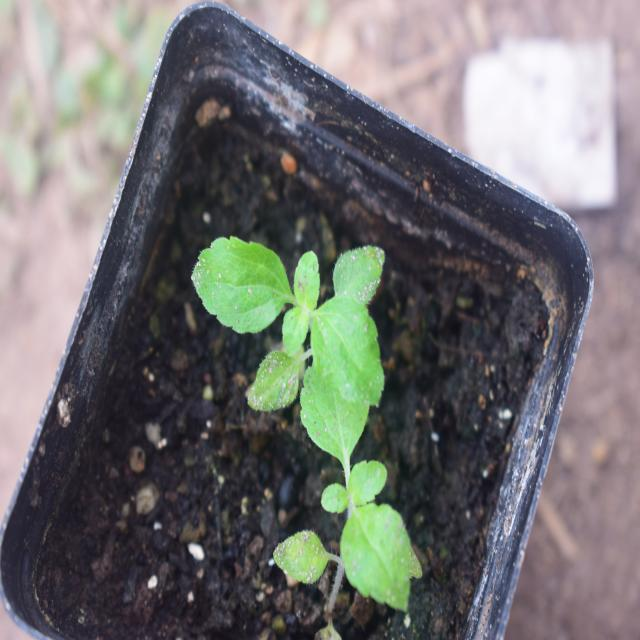billygoat_weed: (169, 214, 384, 404), (305, 367, 431, 615)
